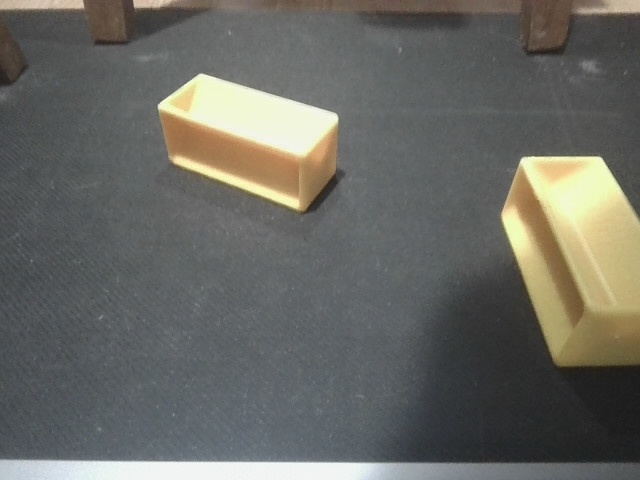YellowSample: (496, 151, 640, 370), (154, 68, 342, 215)
